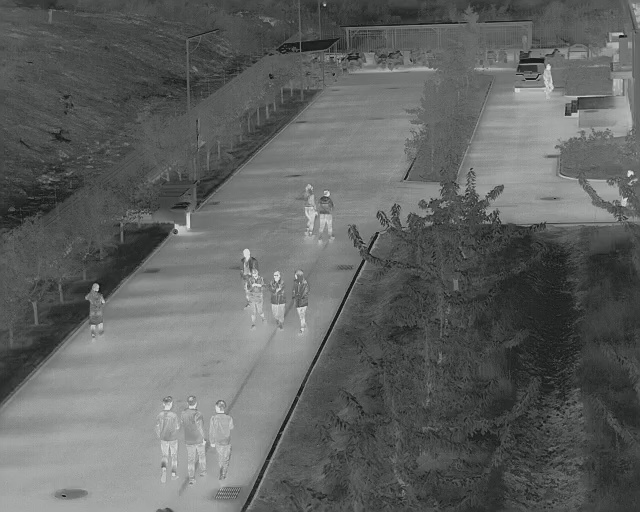person: (178, 395, 208, 485), (155, 395, 179, 484), (209, 399, 234, 483), (290, 270, 312, 335), (84, 282, 105, 340), (316, 188, 337, 242), (247, 268, 264, 330), (269, 269, 286, 331), (301, 182, 315, 236), (544, 62, 555, 98)
vehicle: (512, 55, 545, 93)
